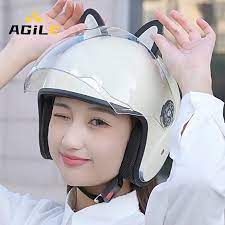helmets: (21, 25, 180, 187)
